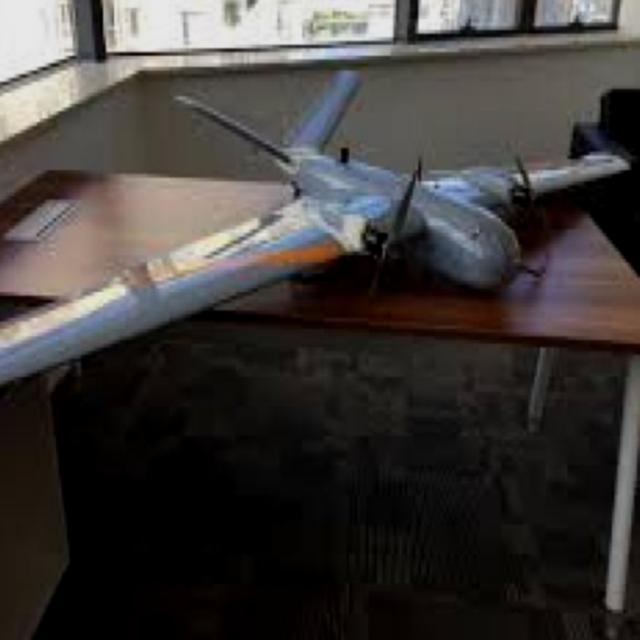plane: (0, 59, 631, 398)
